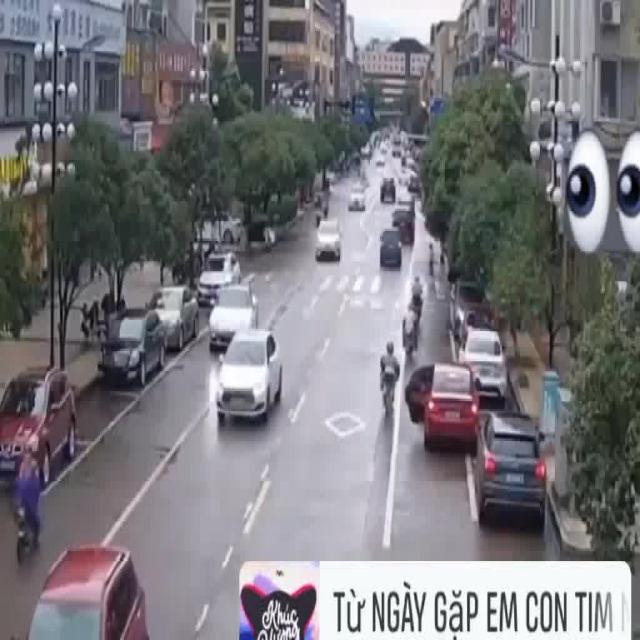normal: (394, 321, 560, 534), (0, 341, 80, 576), (203, 277, 296, 439), (90, 276, 203, 393), (297, 180, 354, 271)
